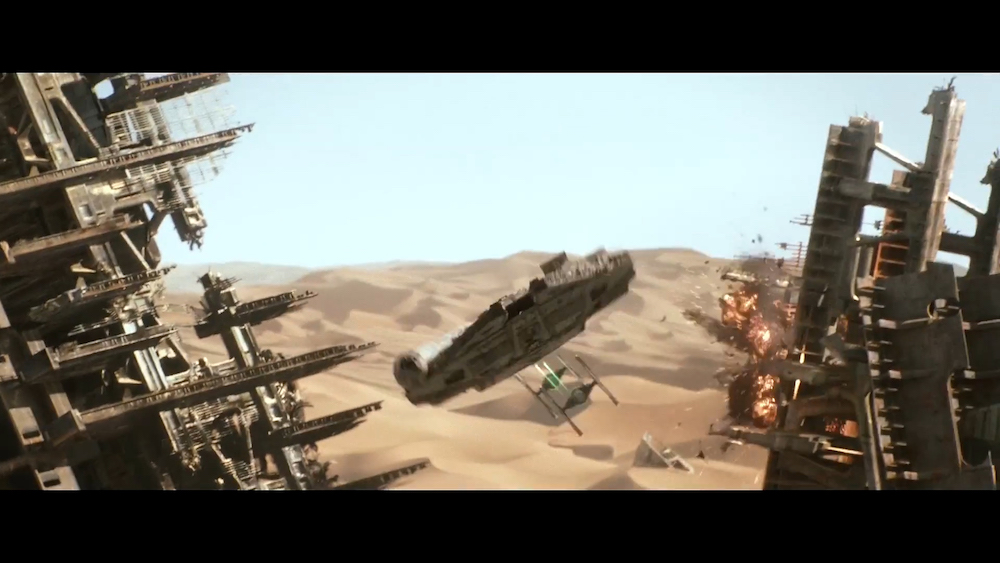Millennium Falcon: (393, 246, 637, 408)
Tie Fighter: (541, 356, 620, 437), (515, 348, 589, 419)
